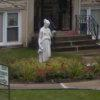Statue: (31, 9, 64, 73)
